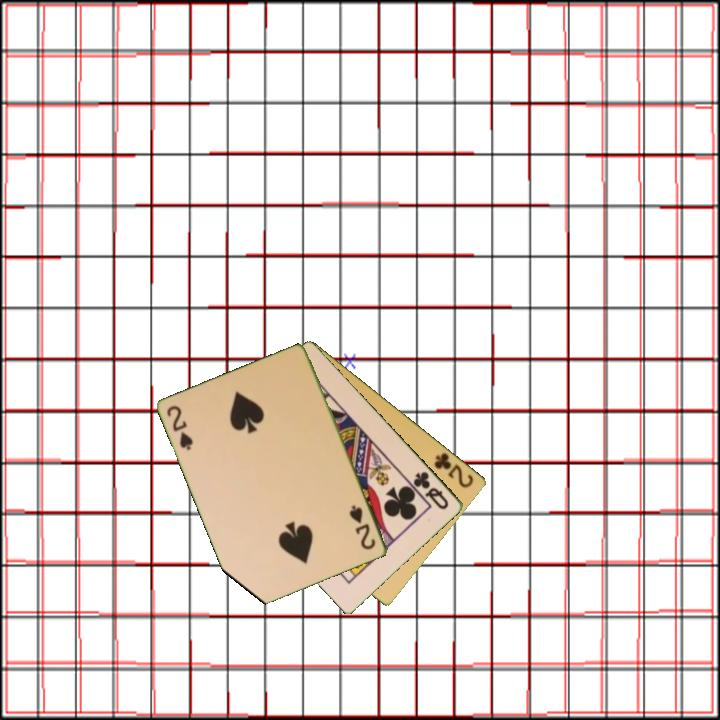2c: (431, 449, 477, 491)
2s: (346, 502, 379, 553), (164, 402, 196, 453)
Qc: (410, 468, 452, 513)
